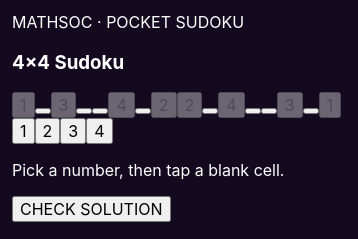
Test: Society Fair - Math mini-game › reports an unsuccessful attempt when the puzzle is incomplete
This screenshot has width=358, height=239.
Click the button "CHECK SOLUTION". click: coordinates (91, 209)
box: [12, 196, 170, 222]
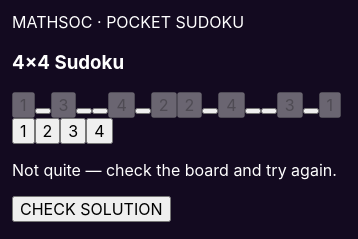
expect the text "Not quite — check the board and try again." is shown: met, box [12, 160, 337, 180]
